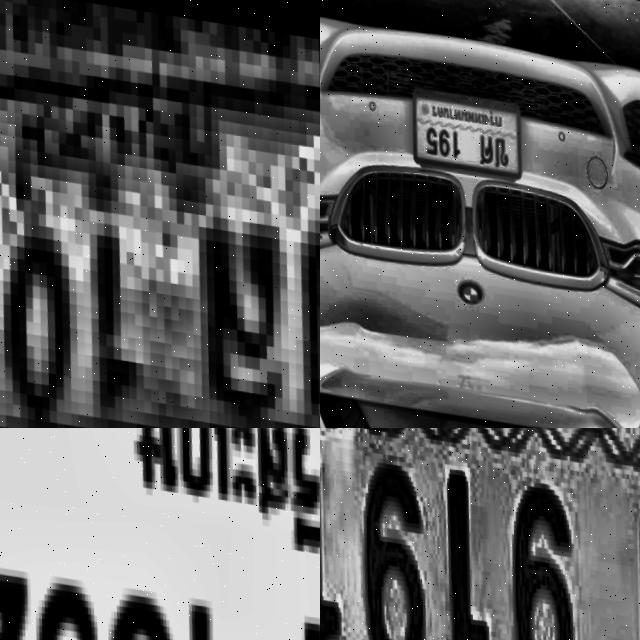license-plate: (0, 0, 320, 428), (0, 428, 320, 640), (320, 428, 640, 640), (403, 81, 523, 176)
